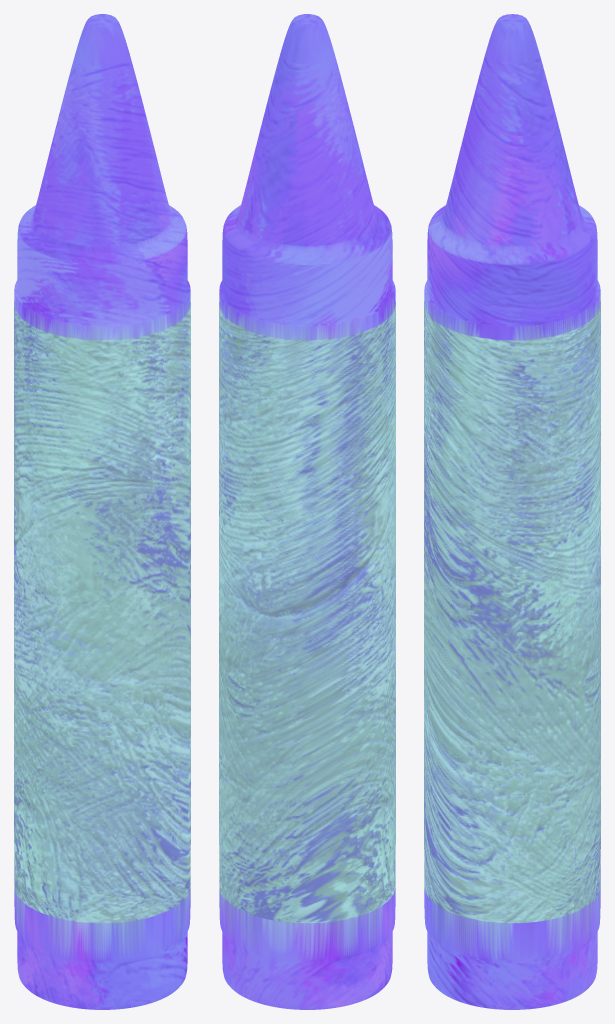
Rendered from Crayon.fbx.
3 renders of one model, left to right at view 1: azimuth 30°, elevation 25°; view 2: azimuth 150°, elevation 25°; view 3: azimuth 270°, elevation 25°, orthographic.
Visible parts, largest first — view 1: Crayon; view 2: Crayon; view 3: Crayon.
Part boxes in pixels (x1,y1,x2,y2): Crayon: [14, 14, 190, 1009]; Crayon: [219, 14, 395, 1009]; Crayon: [424, 14, 600, 1009].
Size of the model in its own units: 0.0745 by 0.0745 by 0.4445.
